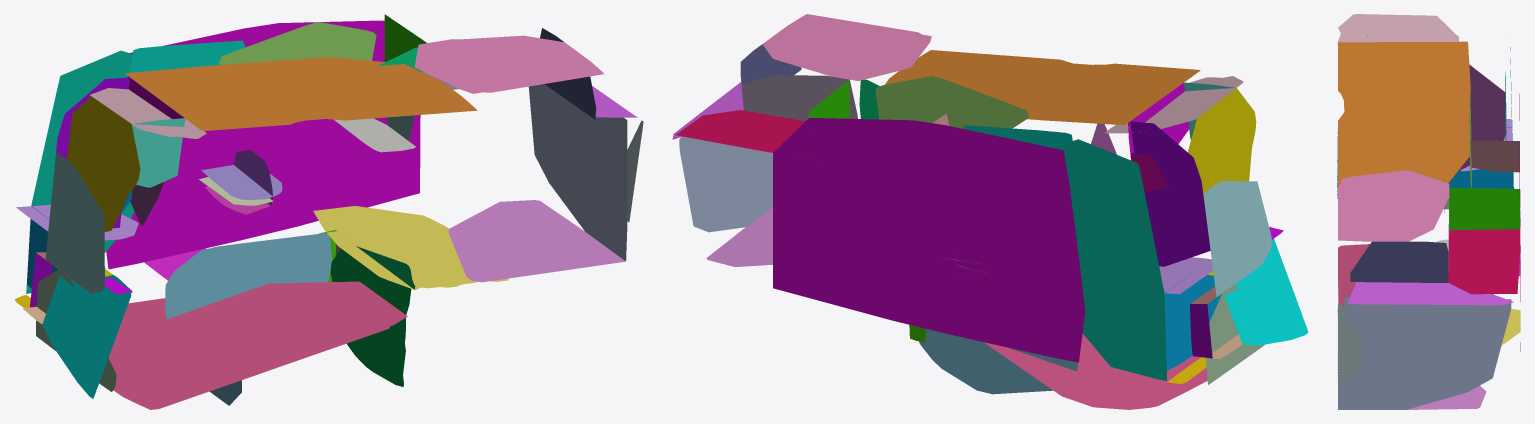
File: planarrecon_scene057.glb
3 renders of one model, left to right at view 1: azimuth 30°, elevation 25°; view 2: azimuth 150°, elevation 25°; view 3: azimuth 270°, elevation 25°, orthographic. The views are drawn at different scales.
Size of the model in its own units: 6.85 by 3.82 by 2.37.
